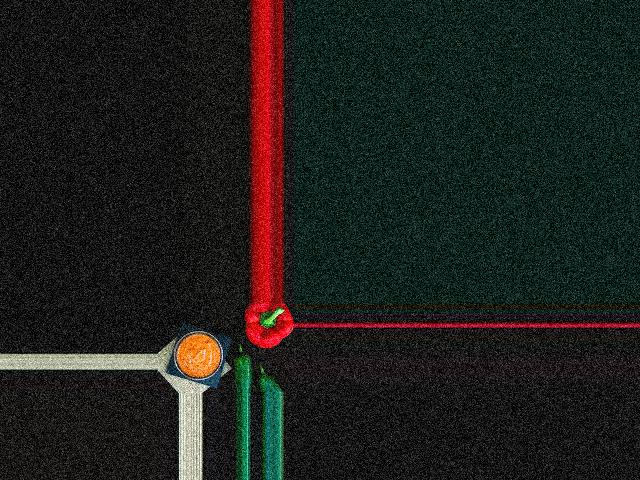bell_pepper: (244, 302, 292, 346)
